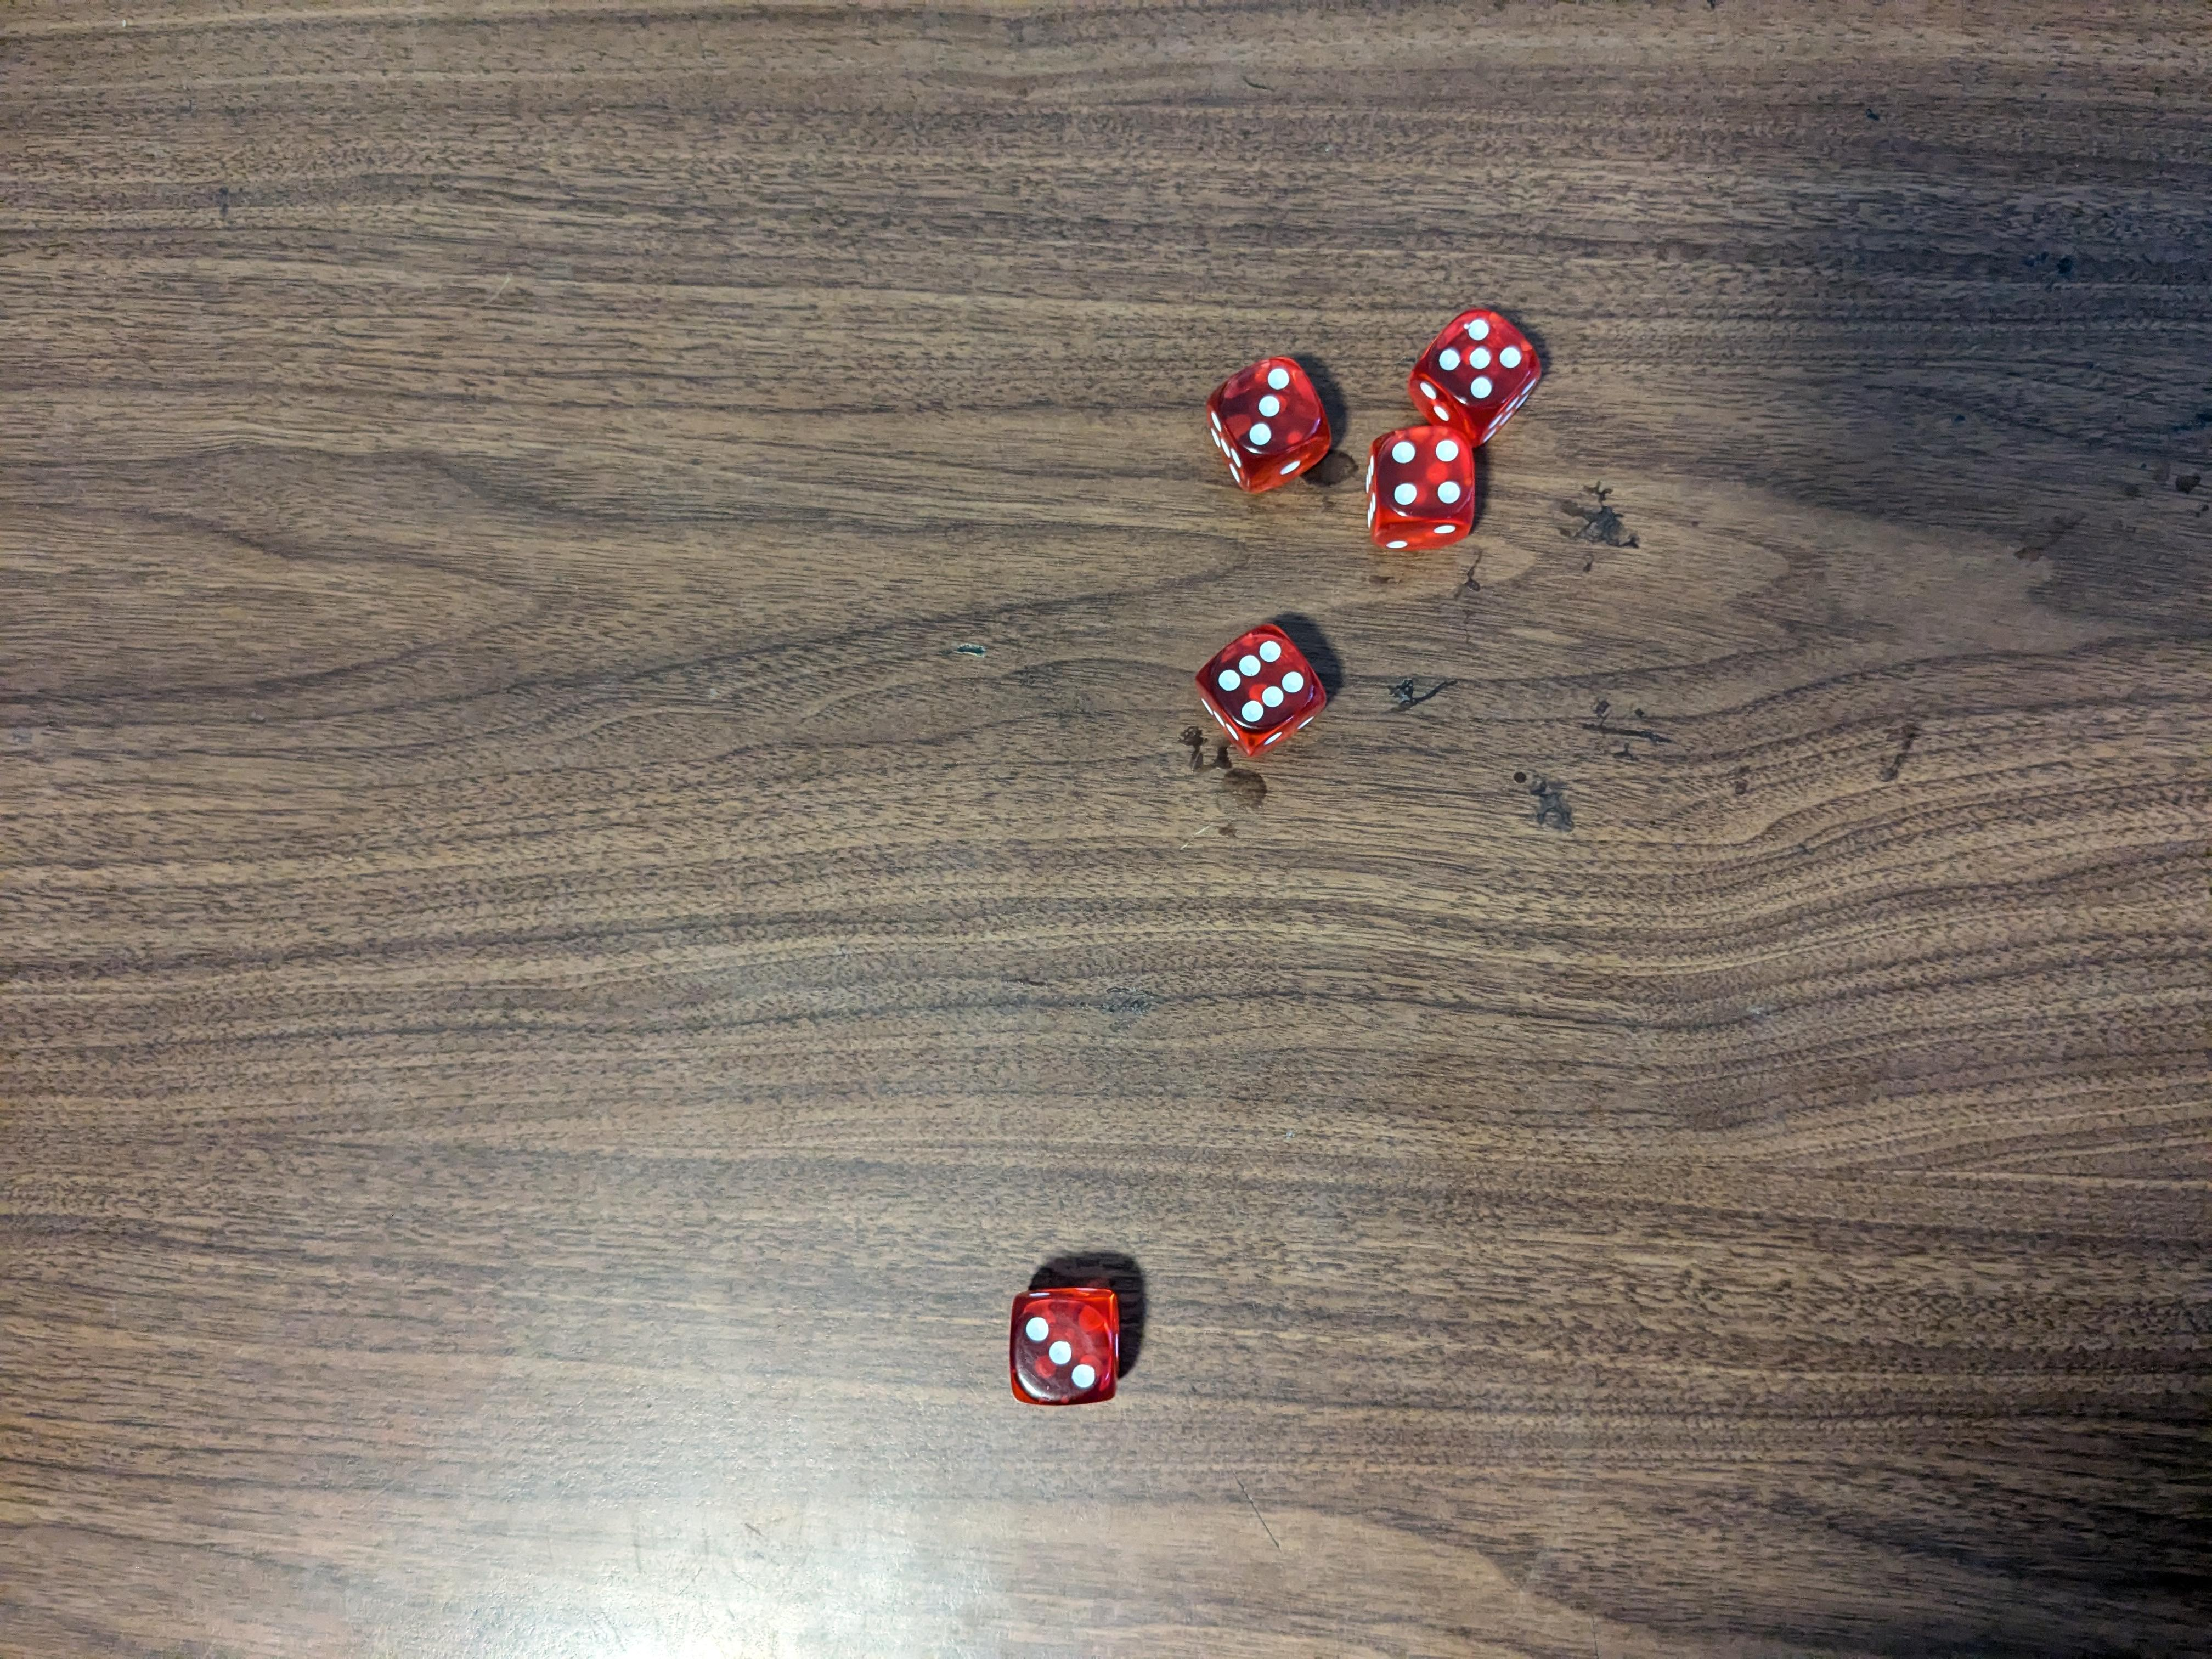five: (1407, 301, 1550, 437)
four: (1364, 420, 1480, 554)
six: (1195, 619, 1338, 760)
three: (1205, 352, 1336, 509), (1008, 1281, 1122, 1408)
